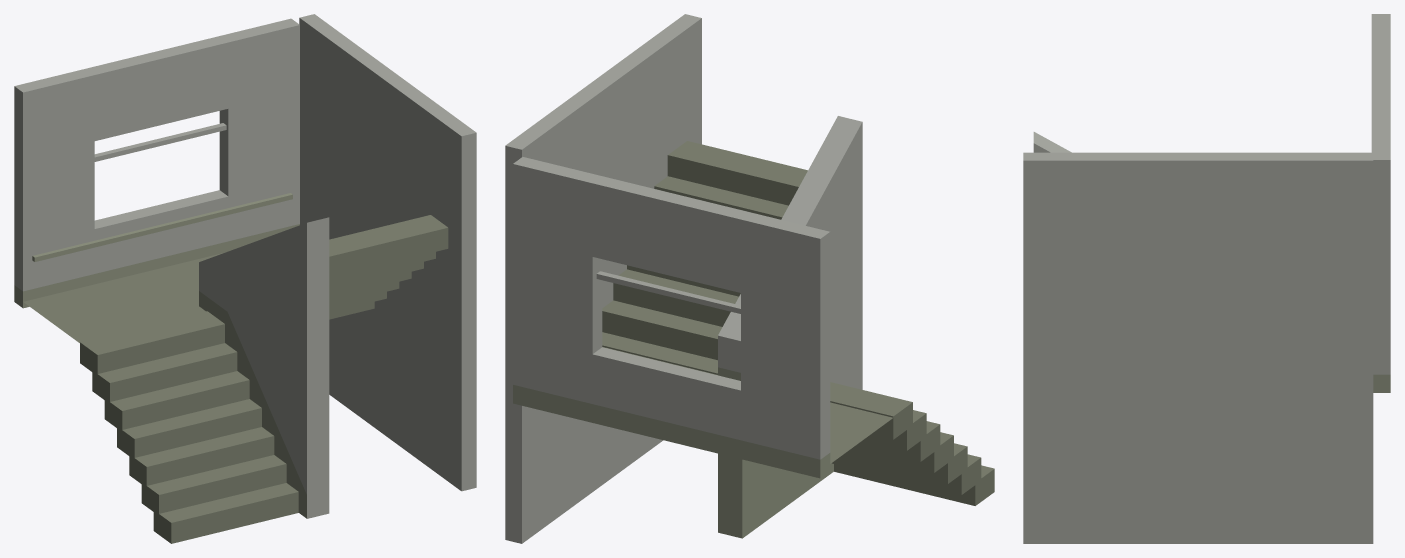
The model's file is 3d_staircase.fbx.
3 views of the same model, side by side, from view 1: azimuth 30°, elevation 25°; view 2: azimuth 150°, elevation 25°; view 3: azimuth 270°, elevation 25° (orthographic). The views are drawn at different scales.
Visible parts, largest first — view 1: pPlane30, pPlane32, pCube187, pPlane31, pPlane35, pCube188, pPlane33, pPlane34; view 2: pPlane32, pPlane30, pPlane31, pCube188, pCube187, pPlane35, pPlane34; view 3: pPlane30, pPlane32, pPlane31.
Part boxes in pixels (<box>): pPlane30: <box>299,14,476,491</box>; pPlane32: <box>14,18,299,308</box>; pCube187: <box>80,311,298,543</box>; pPlane31: <box>199,217,329,518</box>; pPlane35: <box>23,252,224,342</box>; pCube188: <box>329,215,448,319</box>; pPlane33: <box>32,193,292,261</box>; pPlane34: <box>94,123,226,161</box>; pPlane32: <box>513,157,830,478</box>; pPlane30: <box>505,14,701,543</box>; pPlane31: <box>718,116,862,538</box>; pCube188: <box>602,141,807,374</box>; pCube187: <box>830,382,994,505</box>; pPlane35: <box>602,347,892,463</box>; pPlane34: <box>596,271,740,313</box>; pPlane30: <box>1023,152,1373,543</box>; pPlane32: <box>1371,14,1390,392</box>; pPlane31: <box>1033,132,1071,152</box>.
Bounding box in the file's own units: 10.62 × 12.33 × 10.72.
